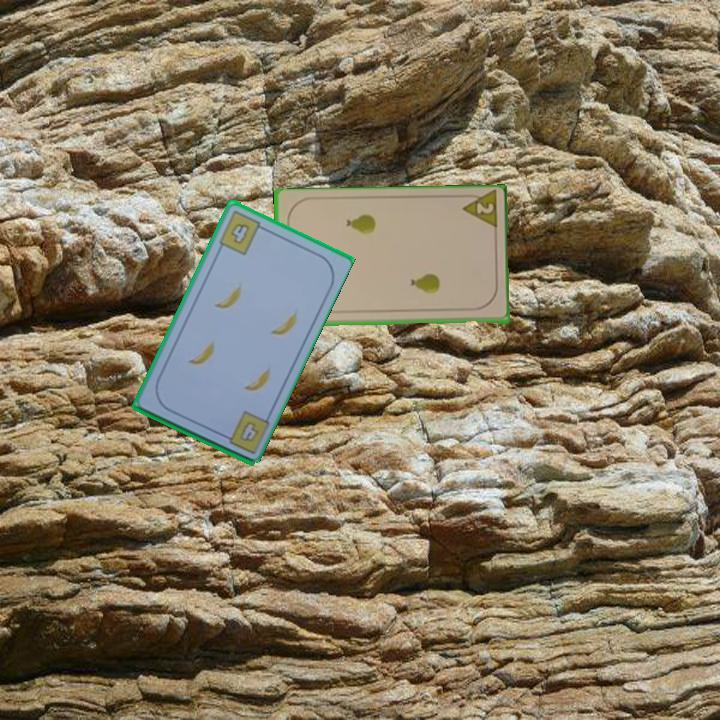2p: (457, 189, 500, 234)
4b: (215, 207, 269, 258), (236, 417, 261, 445)
